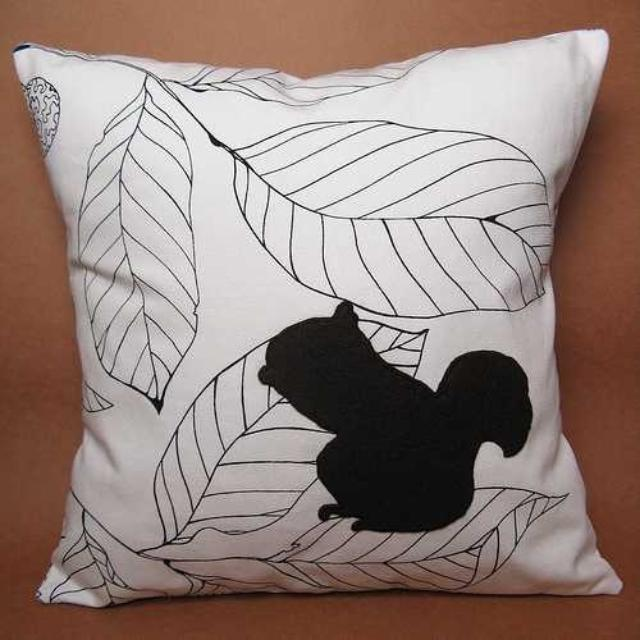pillow: (13, 28, 623, 606)
